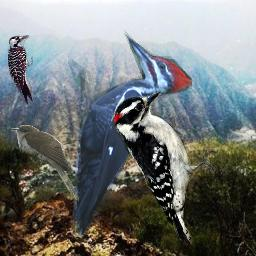Cuckoo: (11, 125, 79, 202)
Woodpecker: (68, 29, 192, 246), (112, 91, 224, 245), (8, 35, 33, 105)
